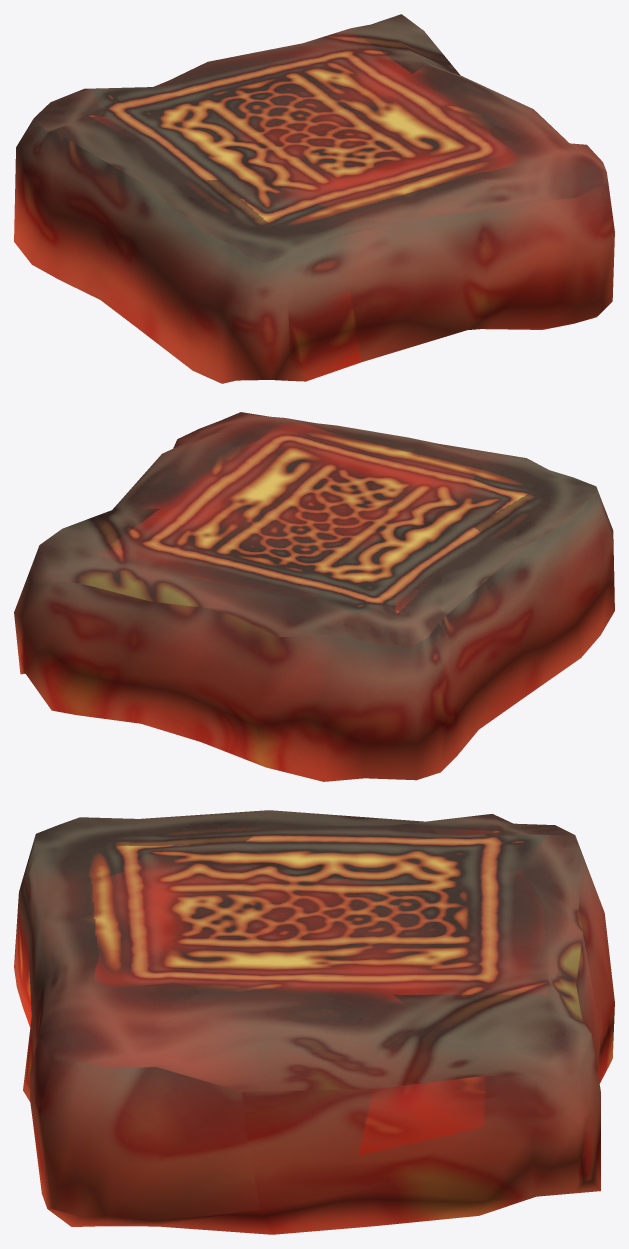
The model's file is MQDDalle.fbx.
3 views of the same model, one above another, from view 1: azimuth 30°, elevation 25°; view 2: azimuth 150°, elevation 25°; view 3: azimuth 270°, elevation 25° (orthographic). The views are drawn at different scales.
Visible parts, largest first — view 1: Dallestraight_low; view 2: Dallestraight_low; view 3: Dallestraight_low.
Part boxes in pixels (x1=…): Dallestraight_low: x1=14, y1=14, x2=614, y2=383; Dallestraight_low: x1=14, y1=412, x2=614, y2=781; Dallestraight_low: x1=14, y1=810, x2=614, y2=1234.
Bounding box in the file's own units: 40447 × 15714 × 40712.
